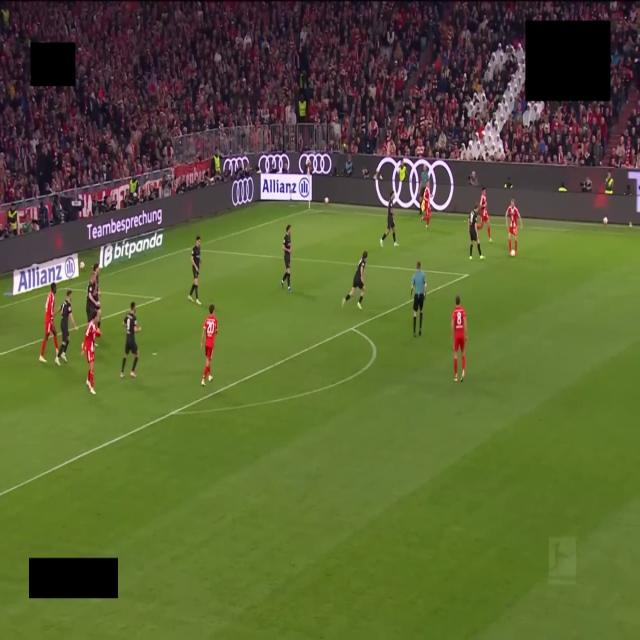ball: (510, 250, 514, 256)
player: (81, 309, 101, 395), (39, 283, 58, 362), (342, 251, 367, 310), (121, 302, 140, 377), (57, 290, 77, 361), (451, 296, 467, 381), (201, 304, 217, 386), (380, 192, 398, 247), (506, 199, 522, 255), (188, 236, 200, 304), (478, 187, 492, 242), (469, 205, 483, 259), (281, 224, 292, 292), (86, 270, 100, 322), (86, 272, 100, 322), (421, 184, 430, 228), (93, 263, 100, 304)
referee: (411, 262, 426, 336)
